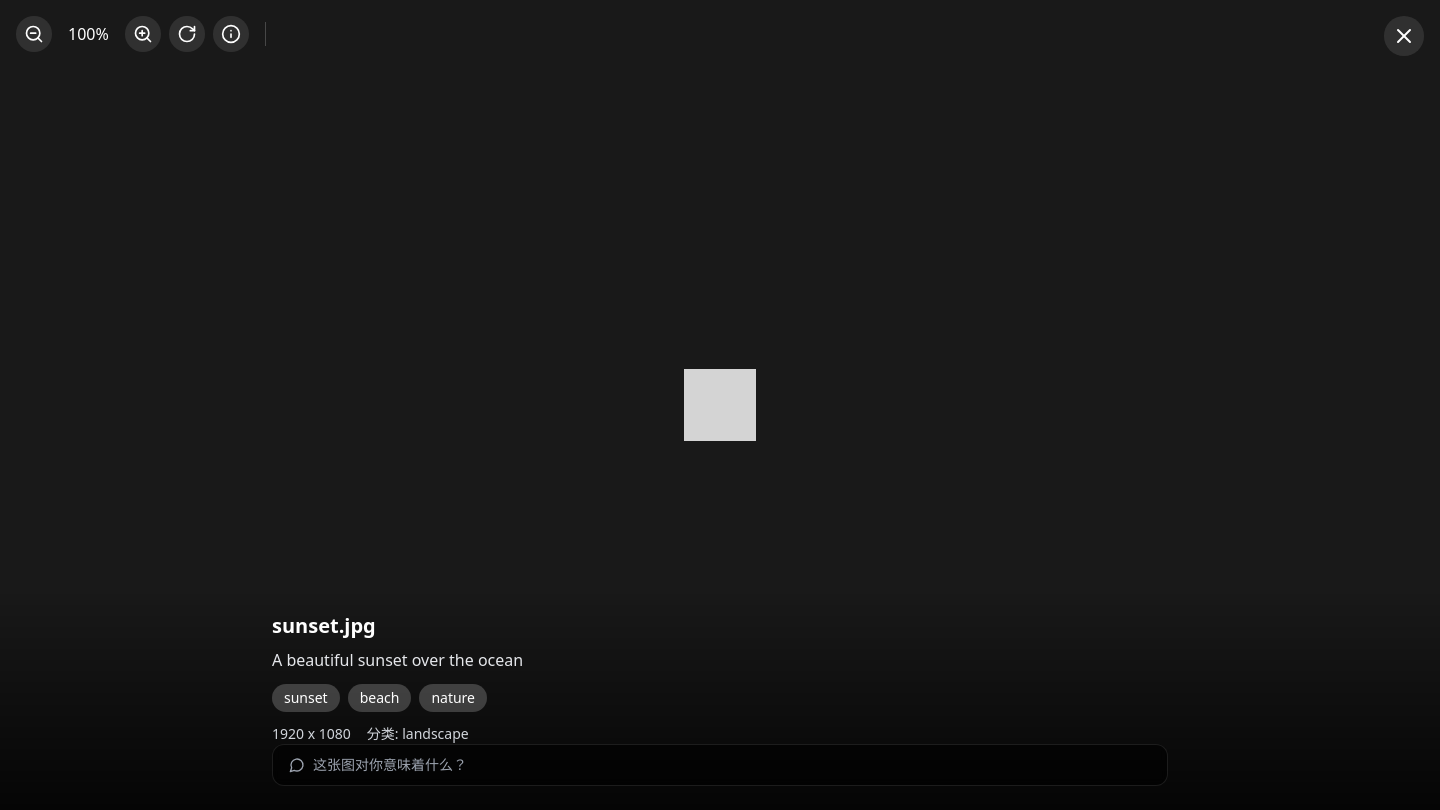
Scenario: ImageViewer › 缩小按钮应该减小缩放比例
Click the button named "缩小" at coordinates (34, 34), box [16,16,52,52]
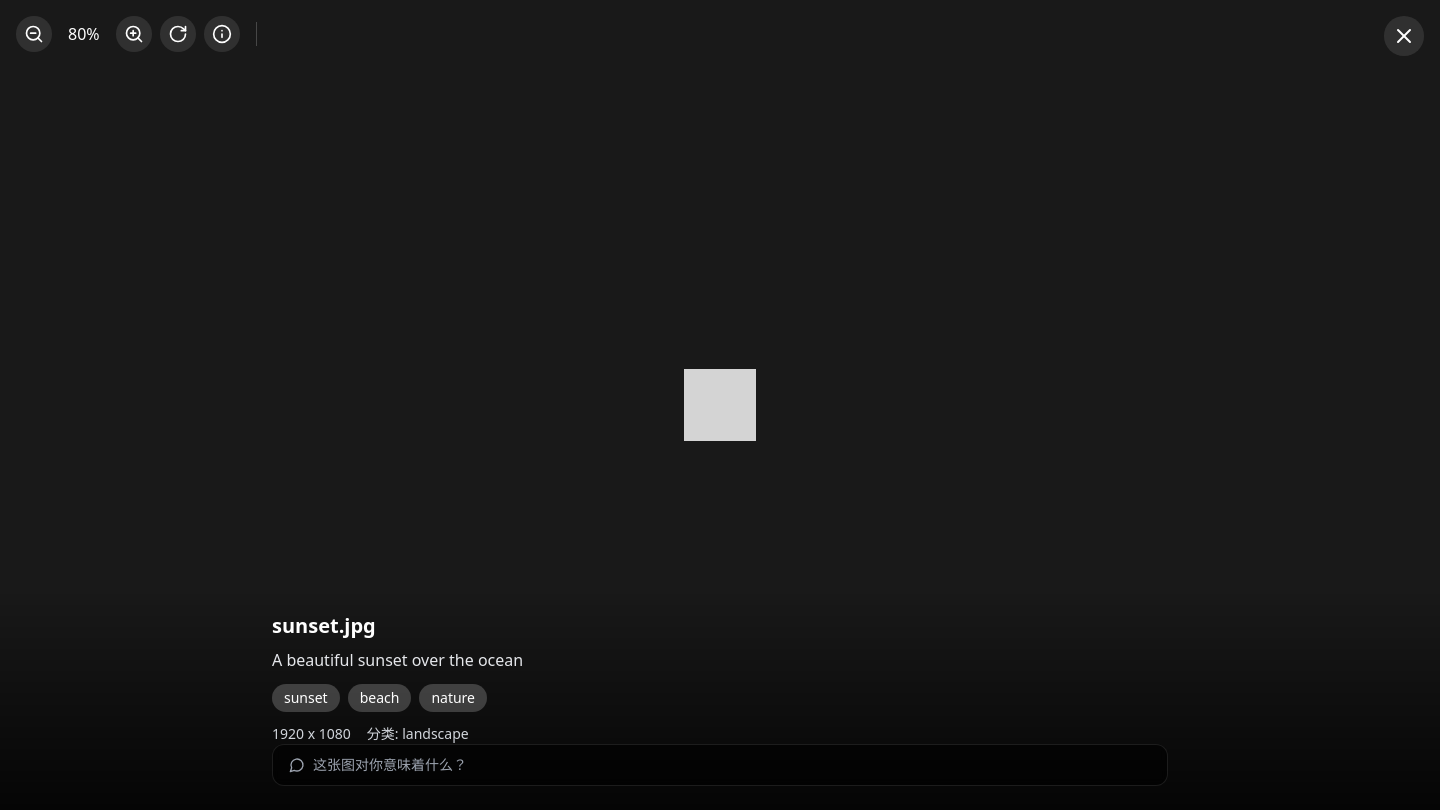
Now the text "80%" is shown, box [68,23,100,45]
